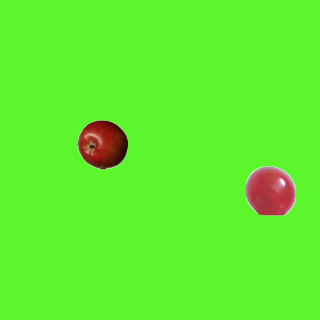Apple Braeburn: (77, 119, 127, 169)
Redcurrant: (245, 165, 295, 215)
